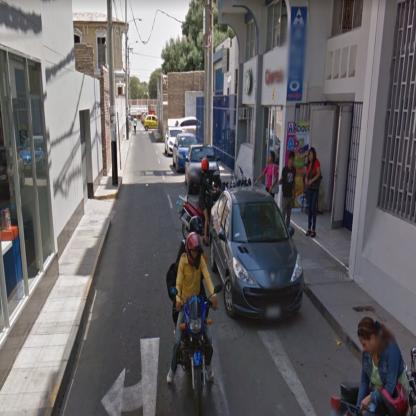Moto: (168, 233, 220, 415)
Peaton: (278, 151, 297, 235), (306, 147, 322, 239)
Pista: (58, 122, 411, 416)
Vehiculo: (210, 187, 305, 326), (186, 143, 221, 194)
